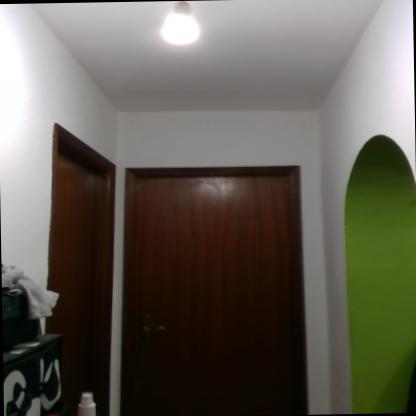closed: (110, 145, 322, 412), (44, 108, 128, 416)
